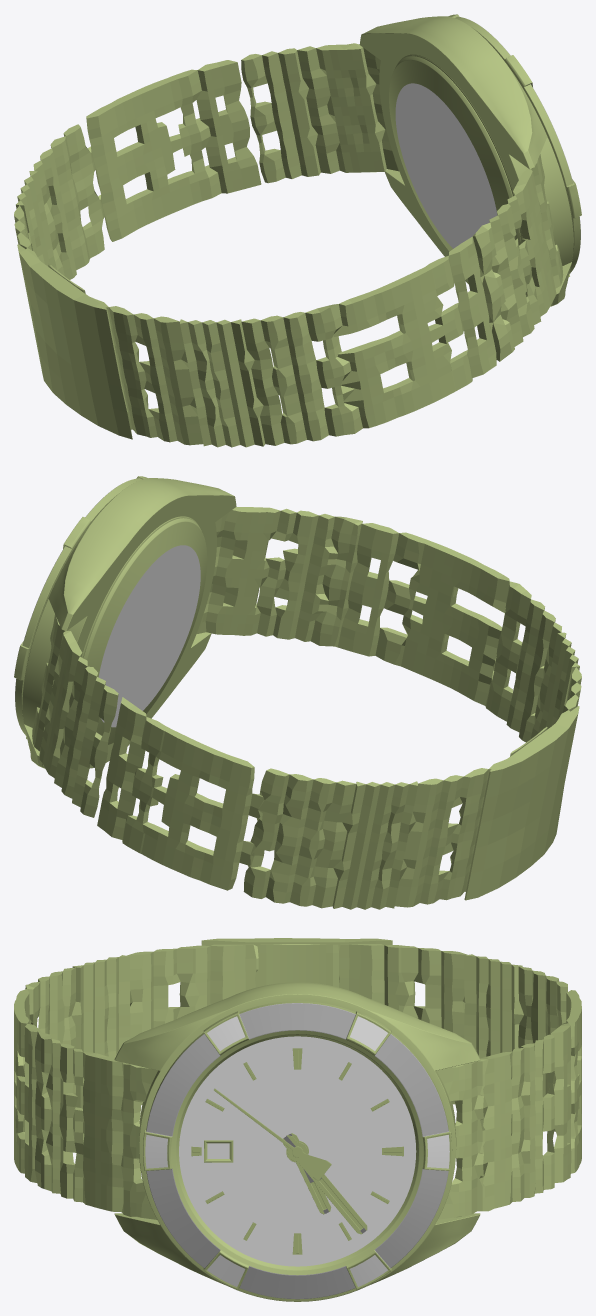
Rendered from watch(2).fbx.
The picture shows the model from 3 angles, top to bottom: view 1: azimuth 30°, elevation 25°; view 2: azimuth 150°, elevation 25°; view 3: azimuth 270°, elevation 25°; orthographic projection. The views are drawn at different scales.
Parts seen in each view (by area): view 1: bracelet.002; view 2: bracelet.002; view 3: bracelet.002.
Part boxes in pixels (<box>): bracelet.002: <box>14,14,581,447</box>; bracelet.002: <box>14,476,581,909</box>; bracelet.002: <box>14,938,581,1301</box>.
Size of the model in its own units: 0.2509 by 0.2383 by 0.1421.
